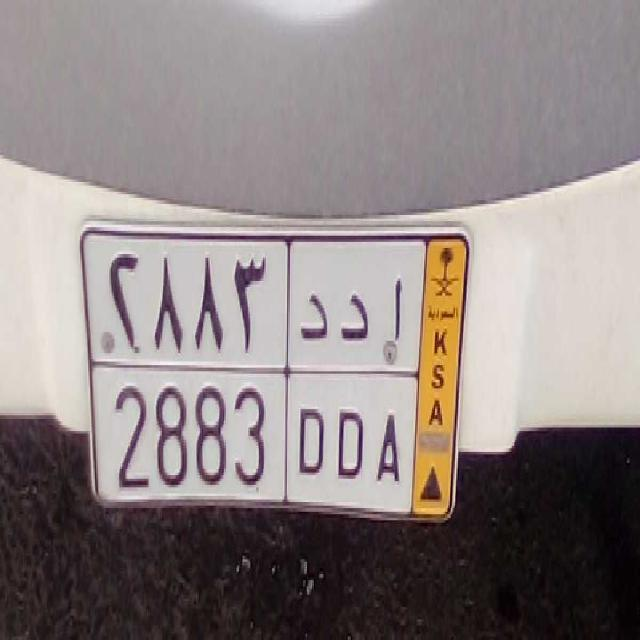license_plate: (90, 362, 413, 517)
